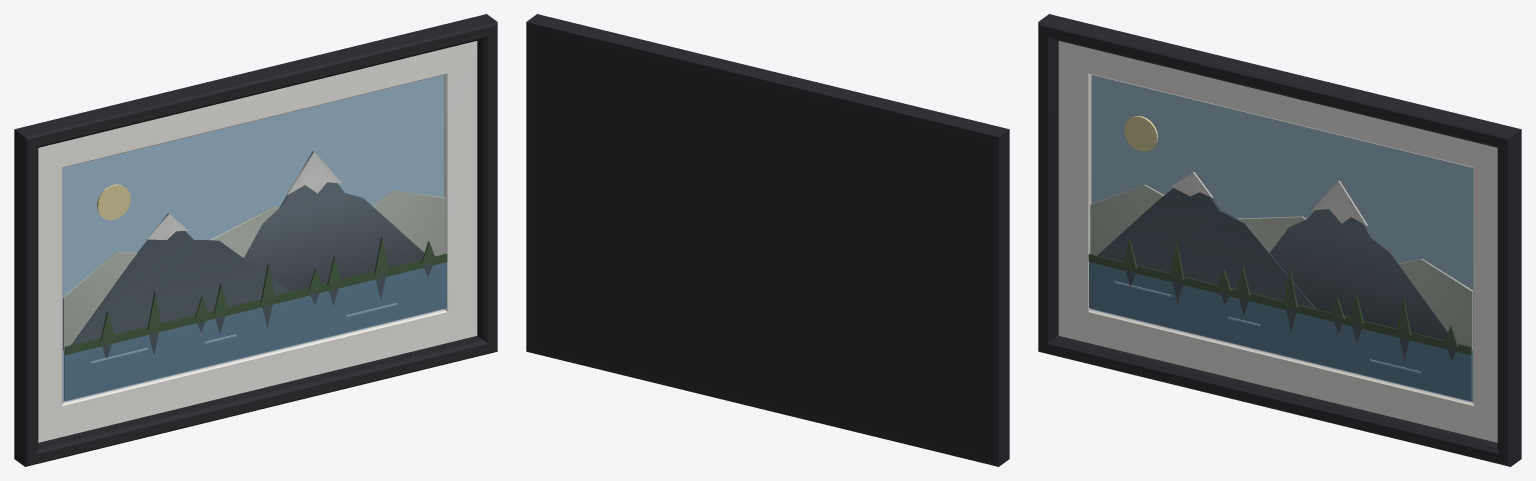
File: photoPrint.glb
3 renders of one model, left to right at view 1: azimuth 30°, elevation 25°; view 2: azimuth 150°, elevation 25°; view 3: azimuth 330°, elevation 25°, orthographic.
Parts seen in each view (by area): view 1: photoPrint; view 2: photoPrint; view 3: photoPrint.
Boxes of the visible parts, left/top/right/bottom form: photoPrint: left=14, top=14, right=497, bottom=466; photoPrint: left=526, top=14, right=1009, bottom=466; photoPrint: left=1038, top=14, right=1521, bottom=466.
Bounding box in the file's own units: 0.75 × 0.5 × 0.033.
